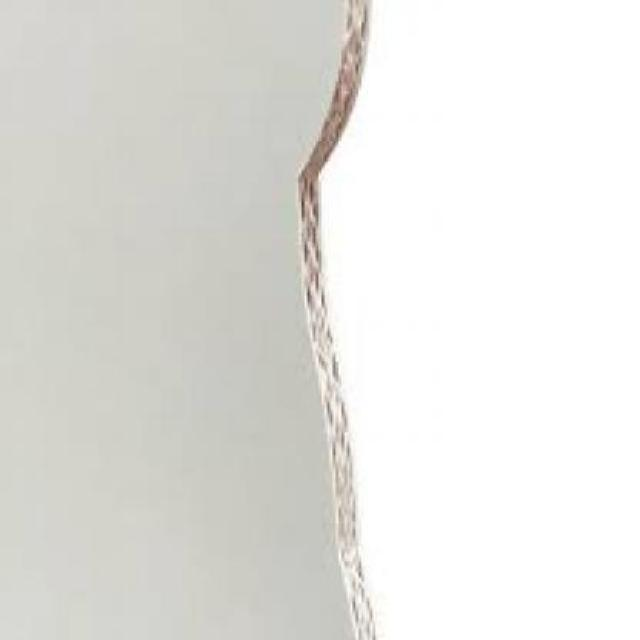cardboard: (295, 0, 637, 637)
